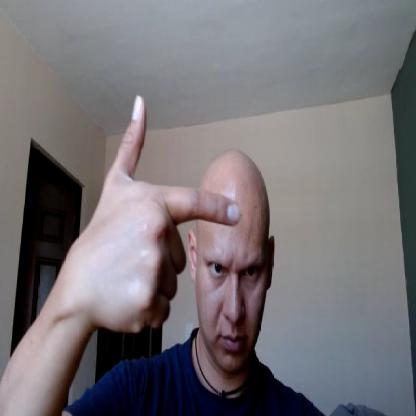G: (86, 90, 243, 335)
